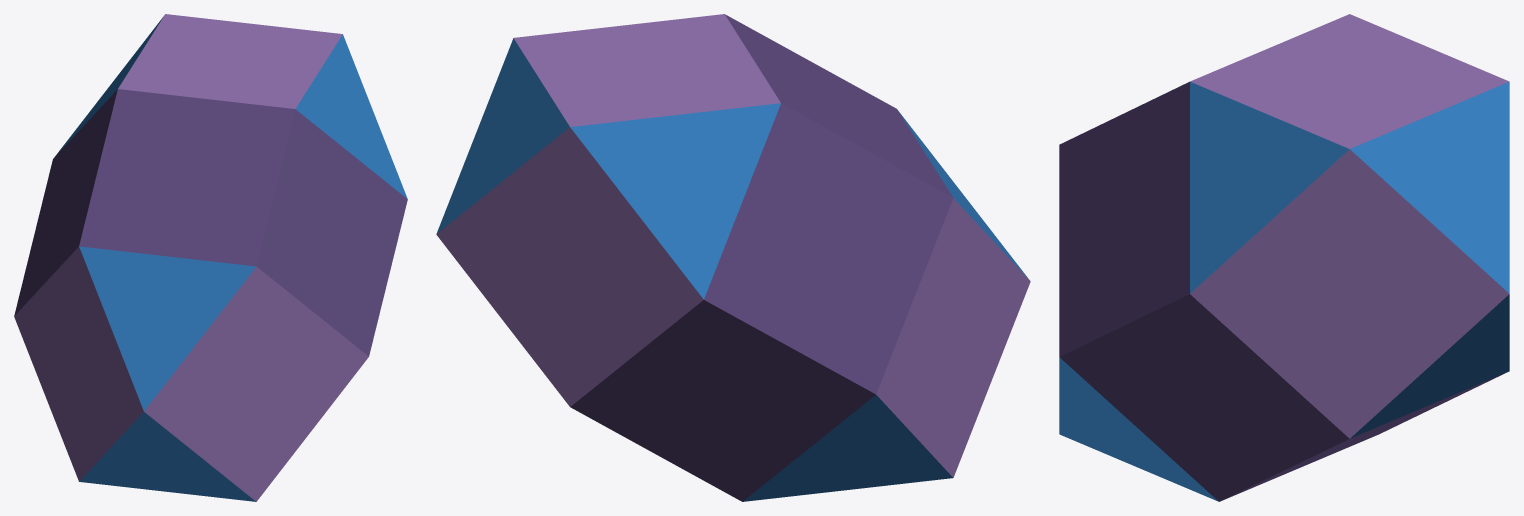
File: J36.GirobicupulaTriangularElongada.gltf
3 views of the same model, side by side, from view 1: azimuth 30°, elevation 25°; view 2: azimuth 150°, elevation 25°; view 3: azimuth 270°, elevation 25° (orthographic). The views are drawn at different scales.
Parts seen in each view (by area): view 1: J36.GirobicupulaTriangularElongada; view 2: J36.GirobicupulaTriangularElongada; view 3: J36.GirobicupulaTriangularElongada.
Part boxes in pixels (<box>): J36.GirobicupulaTriangularElongada: <box>14,14,407,501</box>; J36.GirobicupulaTriangularElongada: <box>436,14,1030,501</box>; J36.GirobicupulaTriangularElongada: <box>1059,14,1509,501</box>.
Bounding box in the file's own units: 13.85 × 13.85 × 13.85.
